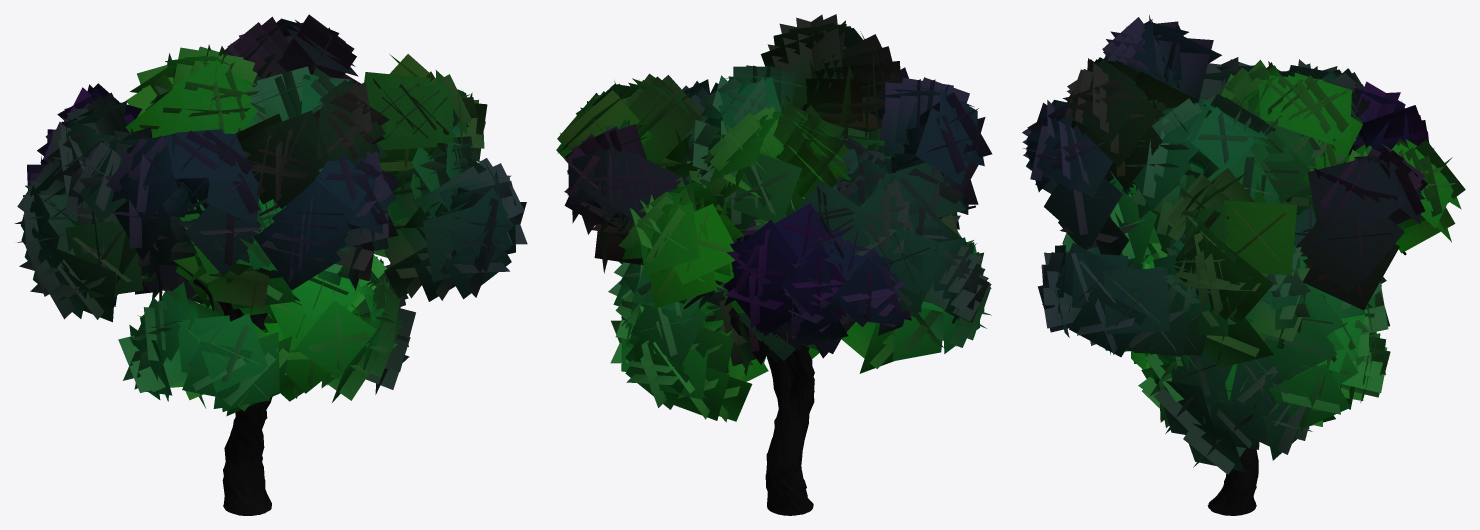
Rendered from MO_Tree-2.fbx.
3 views of the same model, side by side, from view 1: azimuth 30°, elevation 25°; view 2: azimuth 150°, elevation 25°; view 3: azimuth 270°, elevation 25° (orthographic). The views are drawn at different scales.
Parts seen in each view (by area): view 1: Tree_Leafs, Tree_Body; view 2: Tree_Leafs, Tree_Body; view 3: Tree_Leafs, Tree_Body.
Boxes of the visible parts, x1,y1,x2,y2 form: Tree_Leafs: [14, 14, 527, 416]; Tree_Body: [156, 181, 458, 515]; Tree_Leafs: [556, 14, 992, 422]; Tree_Body: [683, 103, 975, 515]; Tree_Leafs: [1022, 15, 1465, 474]; Tree_Body: [1204, 141, 1406, 515].
Size of the model in its own units: 20.71 by 20.15 by 17.9.
